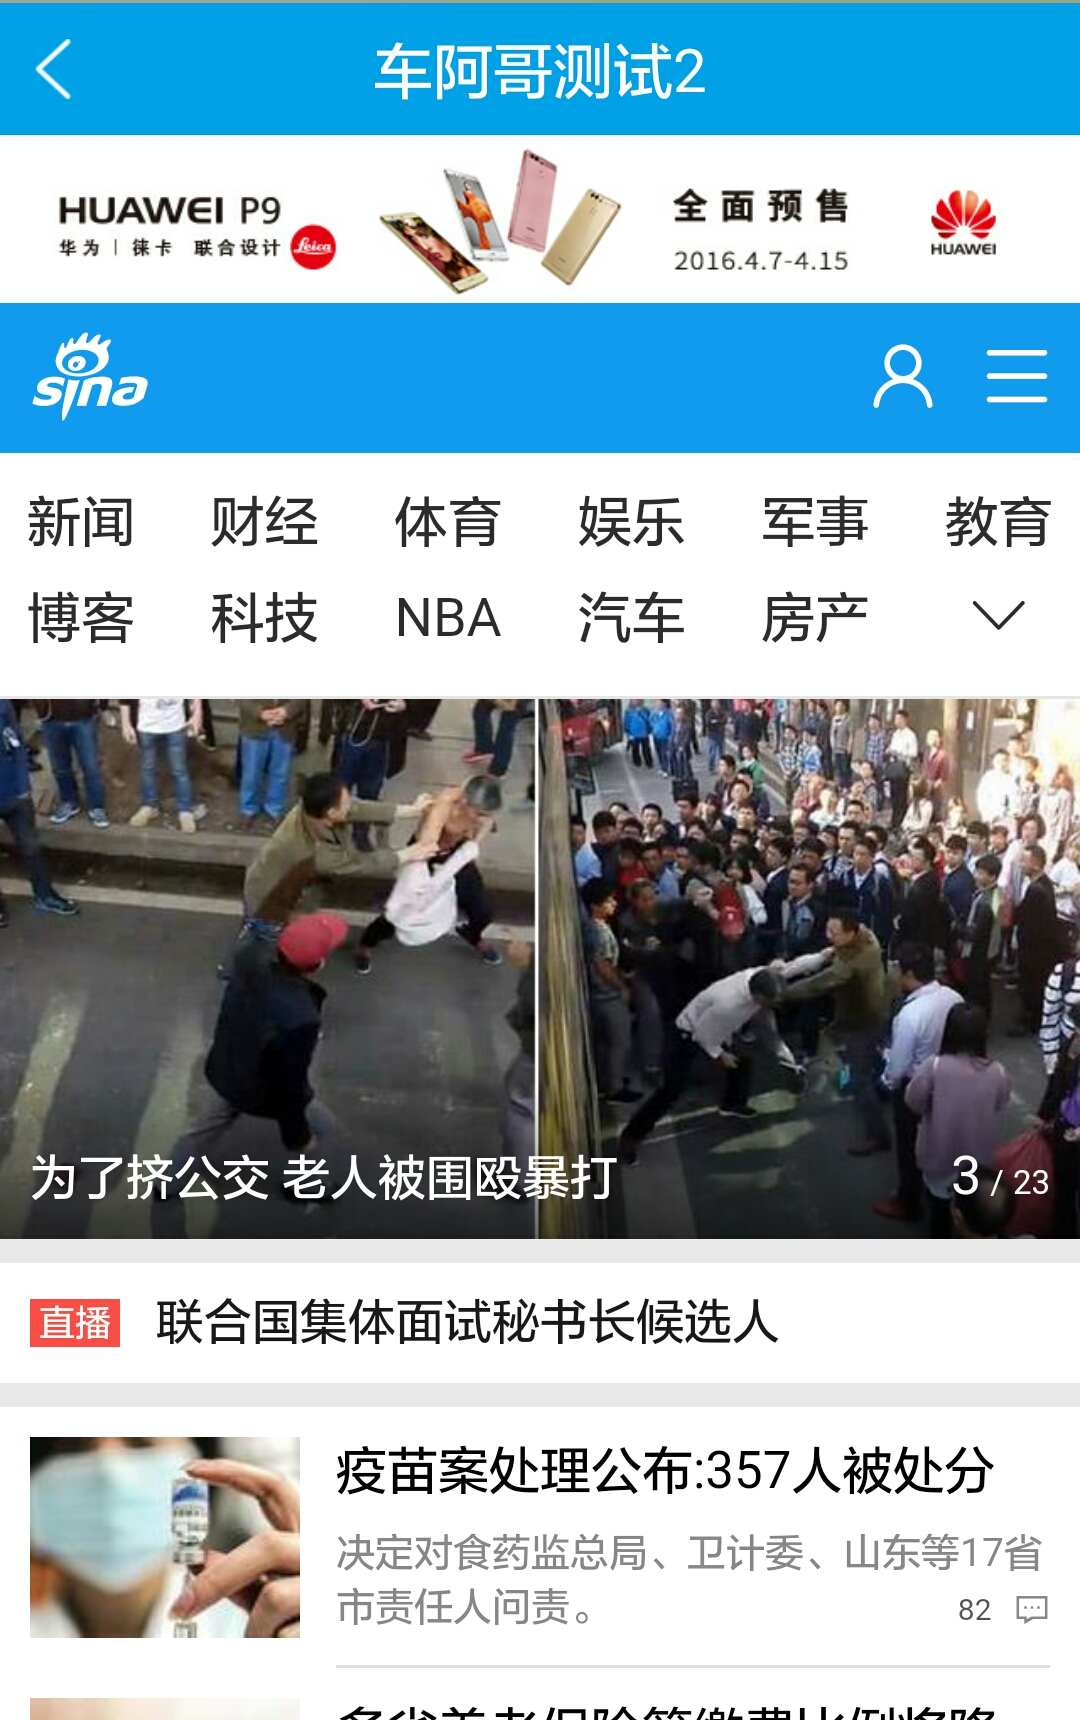imgbutton: (859, 316, 958, 434), (16, 17, 96, 122), (936, 575, 1040, 645), (984, 335, 1058, 429)
imgview: (1, 689, 1080, 1247)
nav: (20, 458, 1065, 658)
textview: (322, 1433, 1068, 1647)
